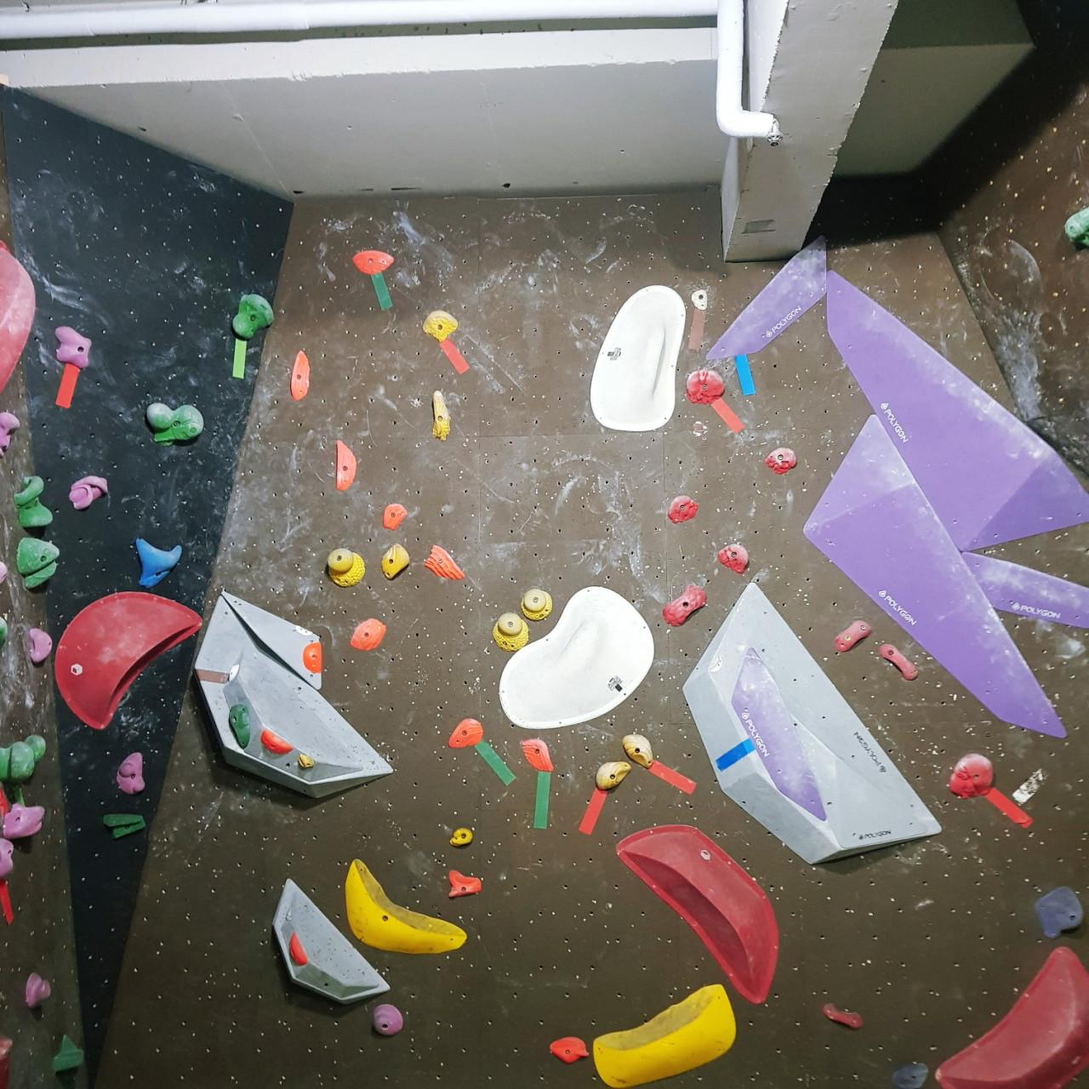hold: (805, 416, 1064, 736), (827, 271, 1088, 549), (617, 826, 778, 1003), (934, 947, 1088, 1088), (499, 588, 653, 729), (55, 591, 201, 727), (732, 648, 825, 819), (593, 983, 735, 1088), (708, 241, 826, 359), (590, 286, 685, 431), (345, 859, 465, 954), (963, 553, 1088, 627), (0, 242, 35, 391), (145, 400, 203, 443), (1035, 887, 1083, 938), (134, 536, 181, 587), (0, 735, 46, 781), (17, 537, 59, 587), (14, 478, 52, 527), (949, 755, 992, 797), (664, 584, 706, 626), (233, 294, 272, 339), (327, 548, 364, 586), (4, 804, 44, 838), (493, 613, 527, 653), (425, 545, 464, 579), (57, 328, 90, 368), (69, 476, 107, 510), (686, 369, 722, 404), (881, 644, 916, 678), (835, 620, 871, 653), (53, 1034, 83, 1073), (423, 311, 457, 343), (351, 619, 385, 650), (335, 441, 356, 491), (623, 733, 653, 767), (522, 738, 552, 772), (103, 814, 145, 838), (550, 1036, 587, 1063), (823, 1003, 861, 1029), (596, 761, 630, 790), (1064, 207, 1088, 248), (354, 250, 393, 275), (382, 544, 409, 579), (26, 628, 52, 664), (449, 719, 482, 747), (119, 752, 141, 794), (717, 544, 748, 573), (432, 391, 450, 440), (291, 351, 309, 400), (230, 702, 249, 748), (521, 590, 551, 619), (373, 1005, 402, 1035), (667, 495, 698, 522), (449, 870, 480, 897), (764, 448, 796, 474), (26, 973, 50, 1007), (261, 728, 292, 754), (0, 411, 19, 452), (383, 504, 407, 529), (0, 1035, 11, 1088), (290, 932, 307, 966), (0, 837, 14, 878), (303, 643, 321, 673), (450, 828, 472, 847), (692, 288, 707, 310), (298, 754, 315, 768), (0, 617, 7, 647), (294, 626, 315, 636), (226, 664, 238, 681), (0, 561, 7, 582)
volume: (683, 583, 940, 862), (190, 596, 391, 802), (273, 880, 389, 1003), (222, 593, 321, 688)
